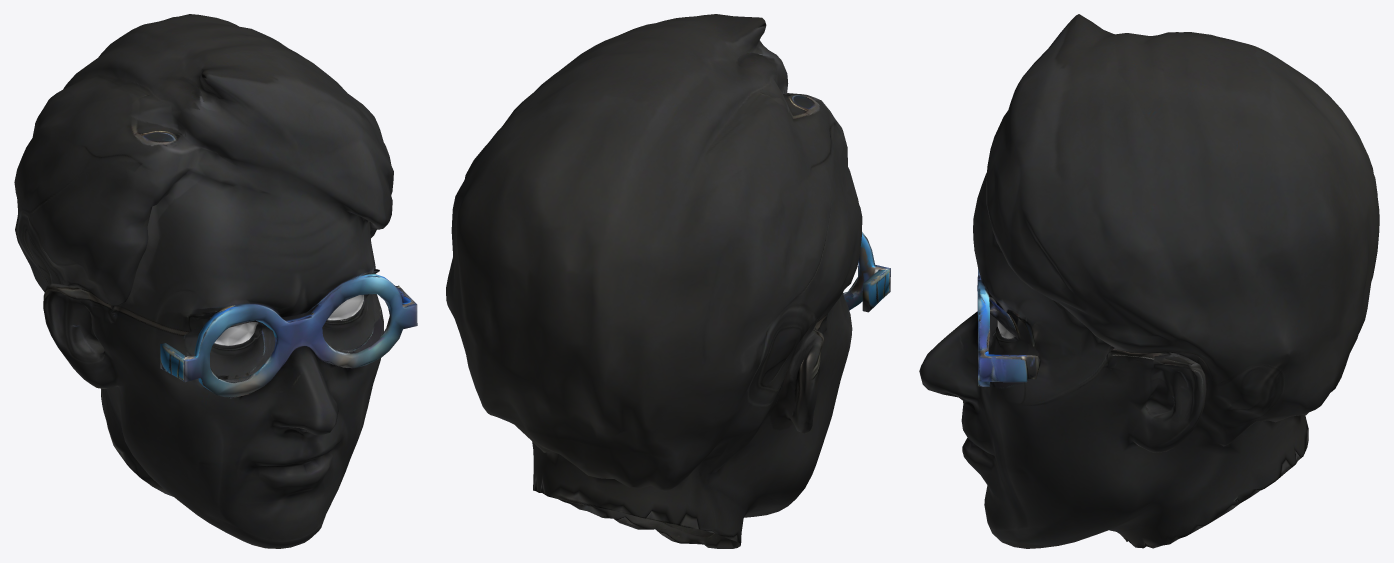
3 views of the same model, side by side, from view 1: azimuth 30°, elevation 25°; view 2: azimuth 150°, elevation 25°; view 3: azimuth 270°, elevation 25° (orthographic). The views are drawn at different scales.
Bounding box in the file's own units: 1.44 × 2 × 1.67.
1 material, 1 textured.
